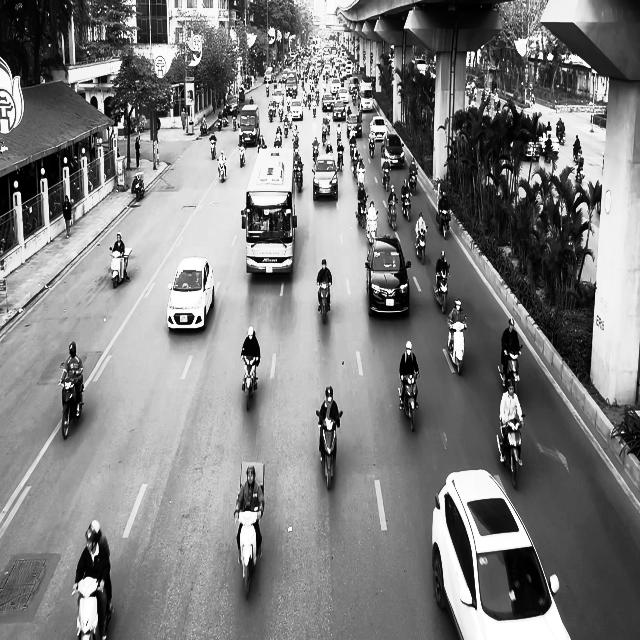bus: (241, 146, 297, 275)
car: (432, 468, 572, 640), (365, 234, 411, 316), (167, 256, 214, 332), (312, 155, 338, 201), (381, 134, 405, 168)
motorbike: (235, 510, 262, 599), (496, 413, 525, 489), (316, 408, 342, 489), (58, 365, 84, 439), (398, 372, 420, 432), (447, 314, 467, 374), (498, 344, 522, 394), (109, 245, 132, 289), (241, 355, 259, 411), (433, 269, 450, 313), (317, 280, 331, 324), (414, 227, 428, 264), (437, 208, 450, 239), (381, 159, 391, 191), (401, 192, 411, 222), (574, 154, 584, 183), (294, 160, 303, 192), (134, 174, 144, 200), (217, 158, 227, 183), (556, 124, 566, 144), (368, 132, 376, 157), (209, 134, 216, 160), (239, 143, 246, 168)
